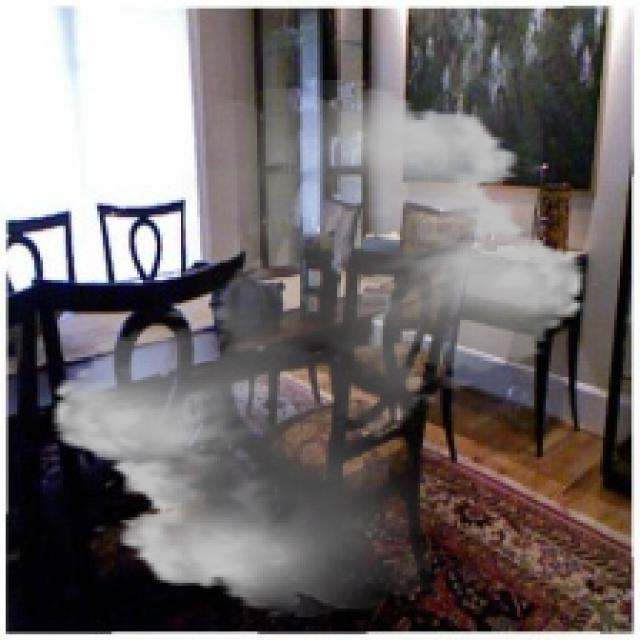Smoke: (34, 80, 603, 617)
